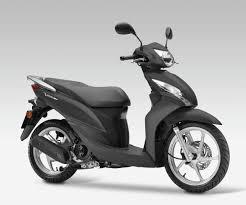motorcycle: (15, 18, 230, 194)
